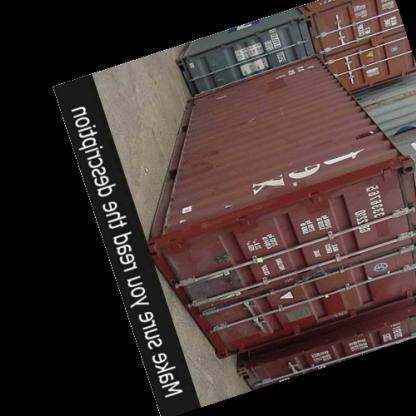Damage: (194, 271, 242, 299), (275, 95, 290, 132), (247, 106, 262, 130), (218, 200, 238, 212), (210, 92, 228, 102)
